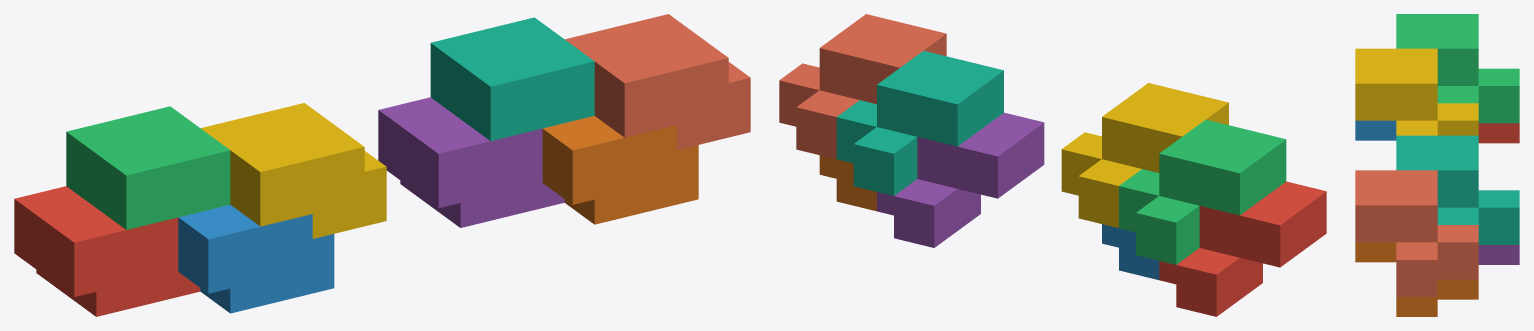
Rendered from tiling.obj.
3 renders of one model, left to right at view 1: azimuth 30°, elevation 25°; view 2: azimuth 150°, elevation 25°; view 3: azimuth 270°, elevation 25°, orthographic. The views are drawn at different scales.
Parts seen in each view (by area): view 1: copy_1_domain_4, copy_1_domain_8, copy_1_domain_3, copy_1_domain_7, copy_1_domain_1, copy_1_domain_5, copy_1_domain_2, copy_1_domain_6; view 2: copy_1_domain_7, copy_1_domain_3, copy_1_domain_1, copy_1_domain_5, copy_1_domain_8, copy_1_domain_4, copy_1_domain_6, copy_1_domain_2; view 3: copy_1_domain_8, copy_1_domain_4, copy_1_domain_7, copy_1_domain_3, copy_1_domain_6, copy_1_domain_1, copy_1_domain_2, copy_1_domain_5.
Boxes of the visible parts, x1,y1,x2,y2 form: copy_1_domain_4: (200, 103, 386, 238); copy_1_domain_8: (565, 14, 750, 149); copy_1_domain_3: (66, 106, 230, 229); copy_1_domain_7: (430, 17, 594, 140); copy_1_domain_1: (14, 186, 200, 316); copy_1_domain_5: (378, 97, 564, 227); copy_1_domain_2: (178, 204, 334, 313); copy_1_domain_6: (542, 116, 698, 224); copy_1_domain_7: (836, 50, 1003, 195); copy_1_domain_3: (1119, 119, 1286, 264); copy_1_domain_1: (1159, 181, 1326, 316); copy_1_domain_5: (877, 112, 1044, 247); copy_1_domain_8: (779, 14, 946, 159); copy_1_domain_4: (1061, 83, 1228, 227); copy_1_domain_6: (819, 155, 876, 211); copy_1_domain_2: (1102, 224, 1159, 279); copy_1_domain_8: (1355, 170, 1478, 296); copy_1_domain_4: (1355, 48, 1478, 135); copy_1_domain_7: (1396, 135, 1519, 244); copy_1_domain_3: (1396, 14, 1519, 123); copy_1_domain_6: (1355, 242, 1478, 316); copy_1_domain_1: (1478, 123, 1519, 143); copy_1_domain_2: (1355, 120, 1396, 140); copy_1_domain_5: (1478, 245, 1519, 264).
Bounding box in the file's own units: 13 × 3 × 4.
